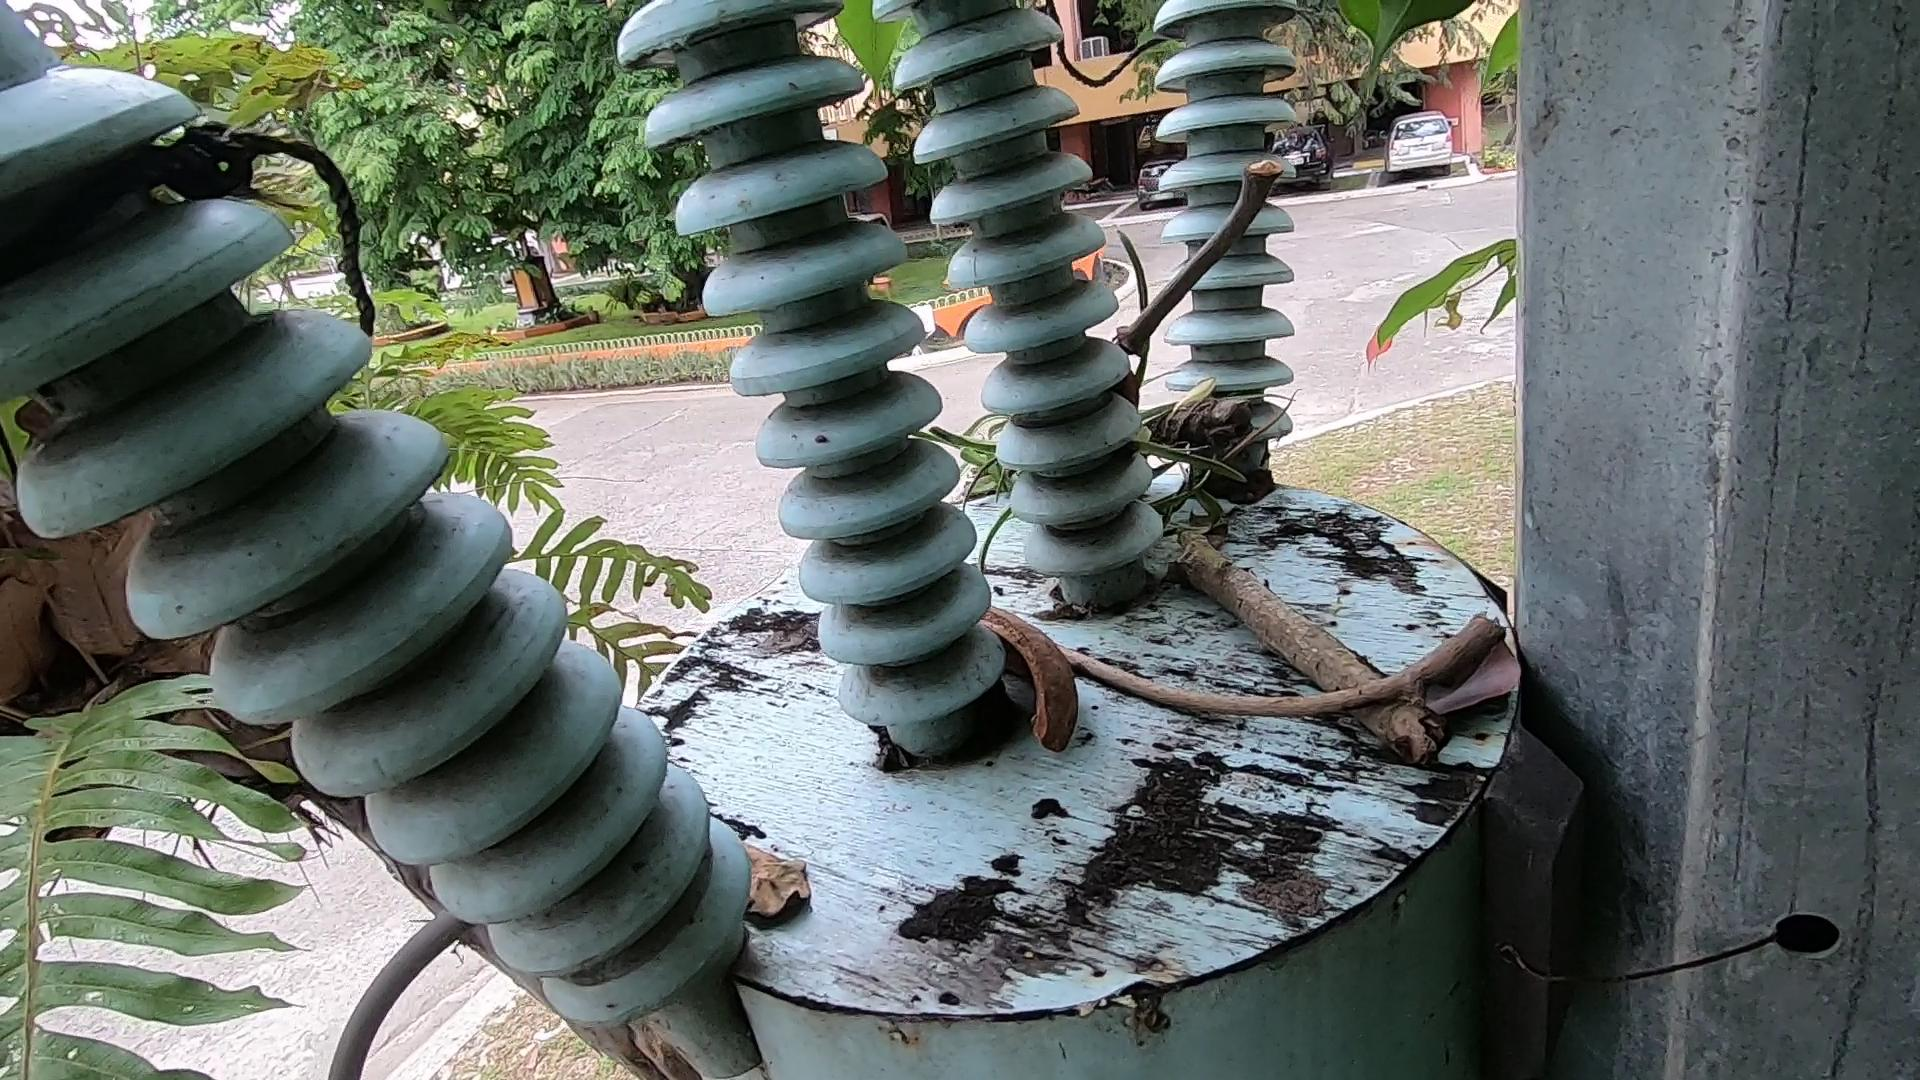branch with leaves: (1083, 371, 1514, 815)
leaf: (1389, 585, 1549, 785), (678, 815, 866, 965)
mahogany fruit: (956, 593, 1072, 761)
tree branch: (978, 585, 1509, 707), (1072, 142, 1303, 396)
